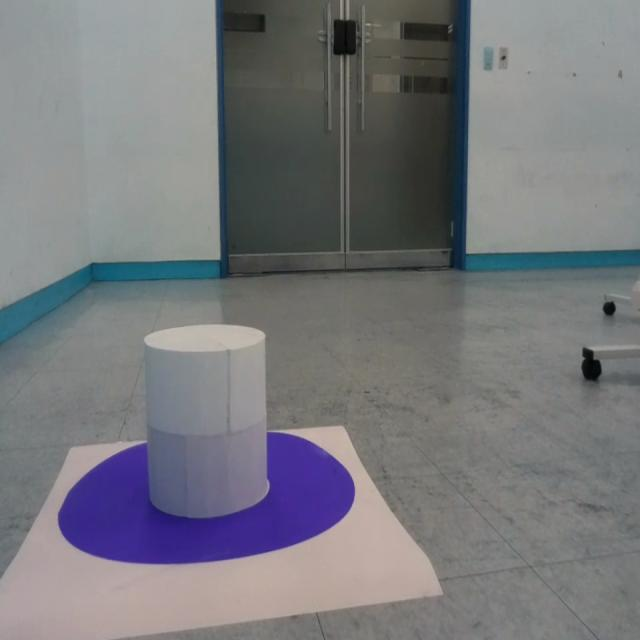cylinder: (143, 323, 270, 517)
